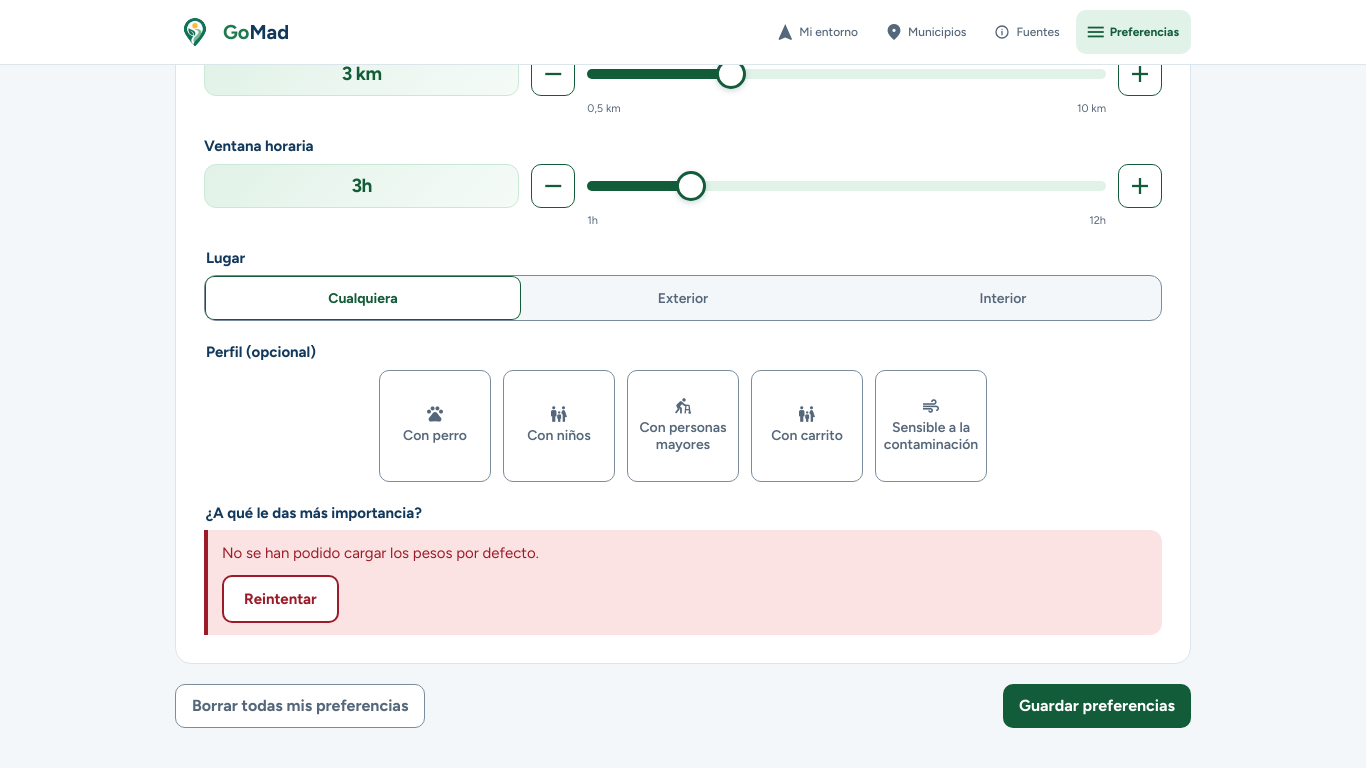
Test: Perfil: pesos por defecto › sin /activities no pinta los pesos ni inventa unos: error con Reintentar y, al reintentar, aparecen
(page scrolled)
Click the button "Reintentar" at (280, 599), box x1=222 y1=575 x2=339 y2=623
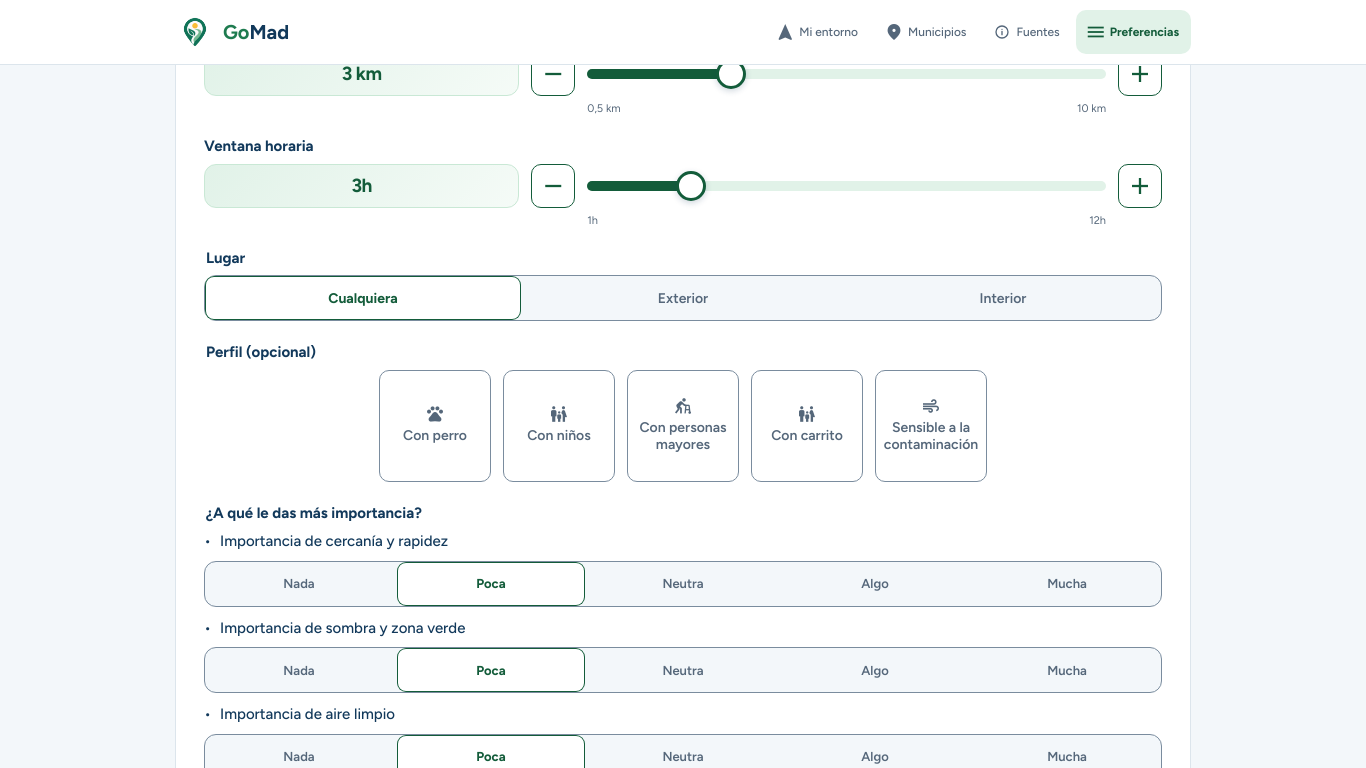
Check: the number of elements "Importancia de" is 5
